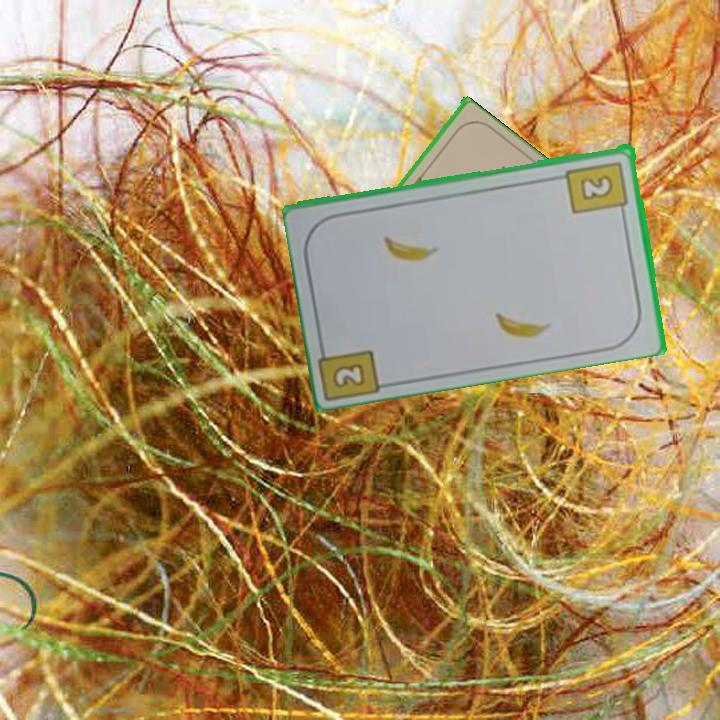2b: (563, 157, 631, 218), (329, 359, 369, 391)
